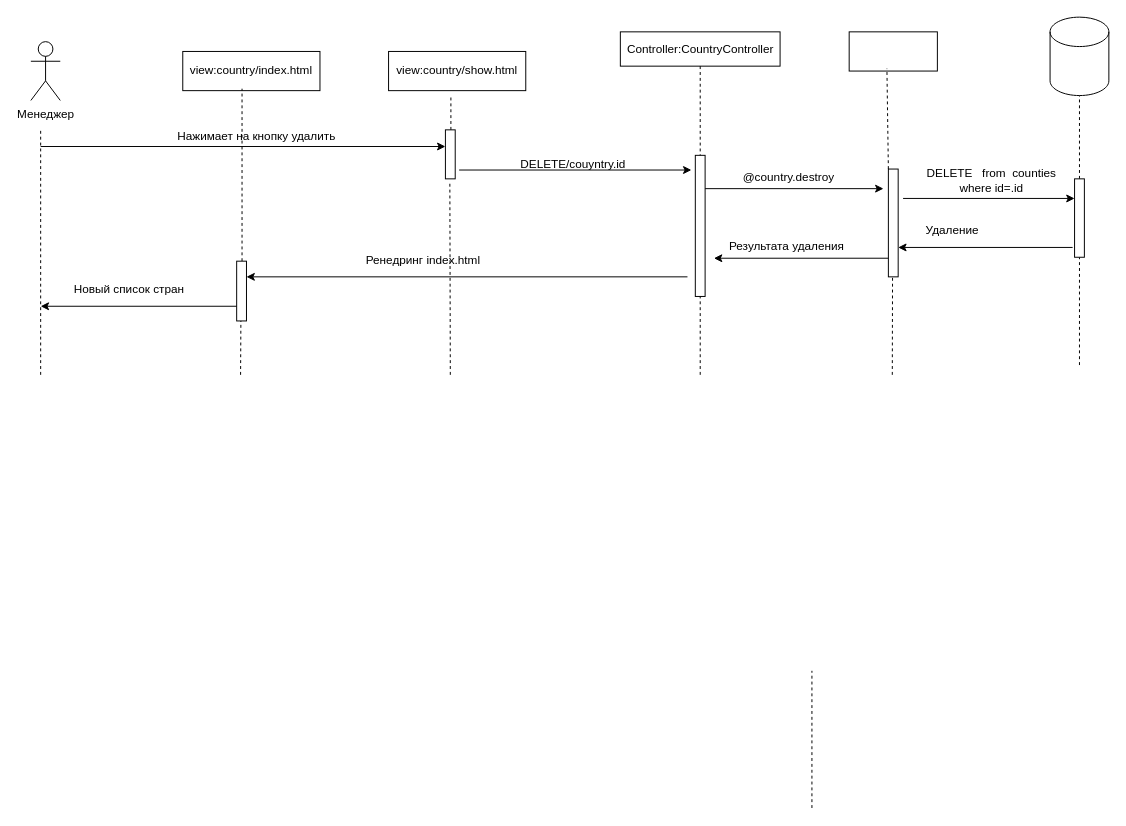
The diagram is 1126 pixels wide and 826 high, and some of its shapes have lost their labels. Here are the shapes that lost their labels. From the top down, the centre of each, then its label:
[892,51]: model:coyntry
[1079,56]: DB
